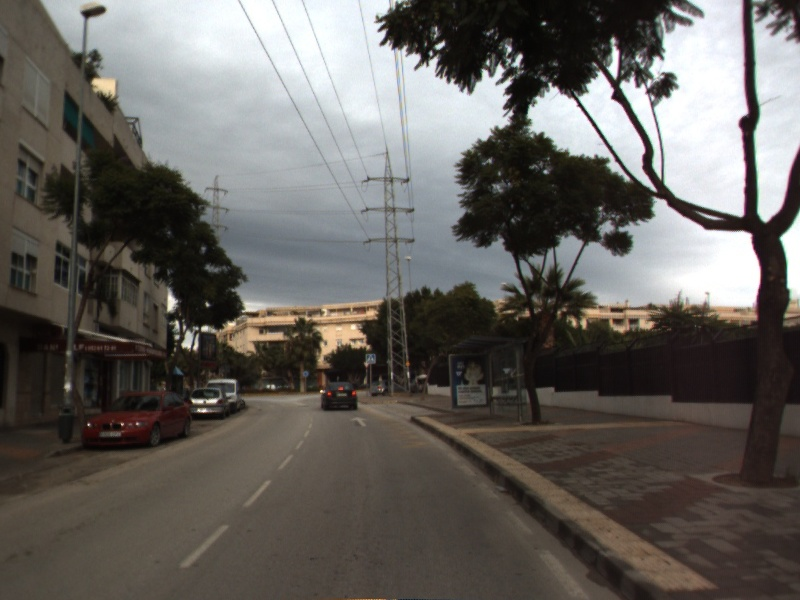STRAIGHT: (348, 414, 370, 429)
